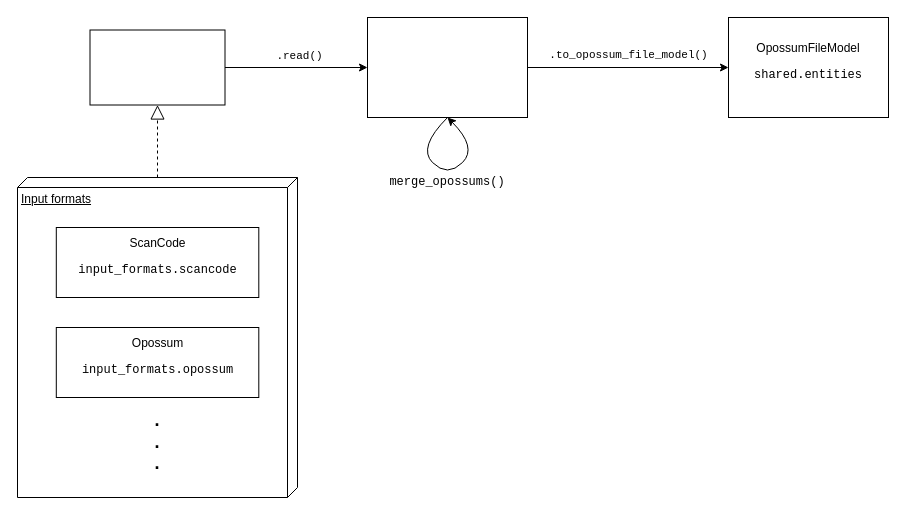
Image size: 906x515. Some labels were removed from this diagram. Here are the shapes that lost their labels. From the top down, the centre of each, then its label:
At point (157, 67): "InputReader core.services".
At point (447, 67): "Opossum core.entities".
